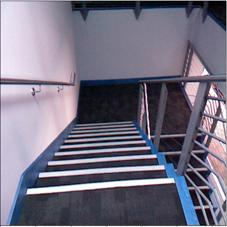Stair Down: (25, 120, 177, 195)
